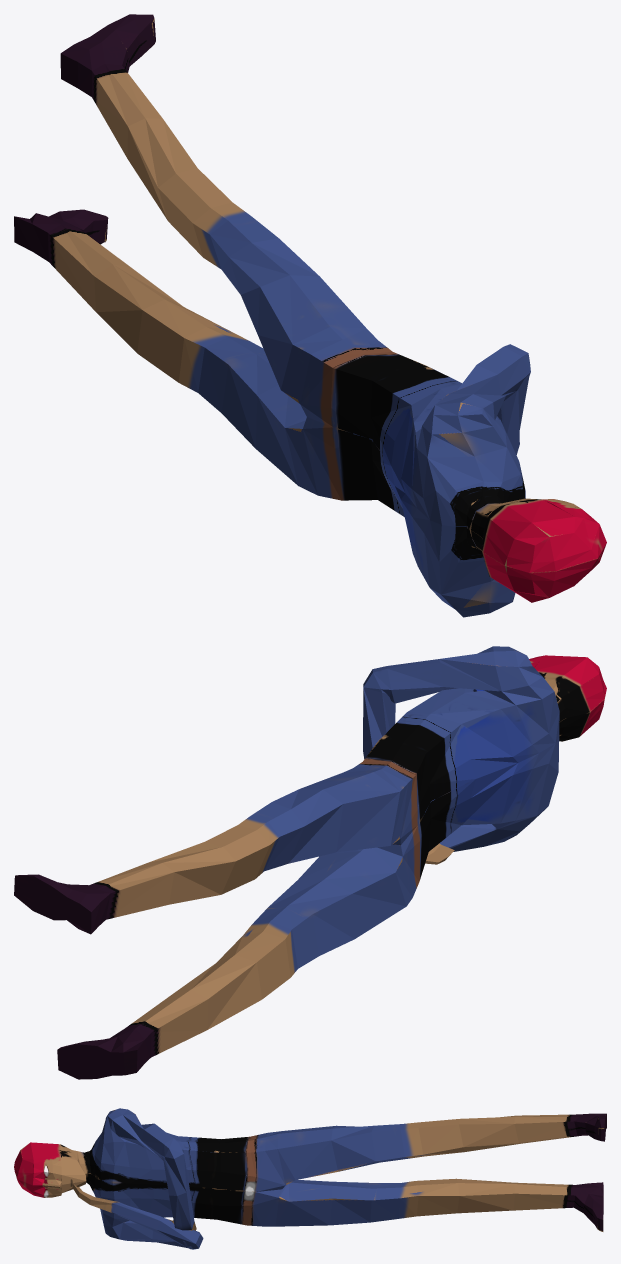
The model's file is mirrorman_000012.obj.
3 views of the same model, one above another, from view 1: azimuth 30°, elevation 25°; view 2: azimuth 150°, elevation 25°; view 3: azimuth 270°, elevation 25° (orthographic). The views are drawn at different scales.
Visible parts, largest first — view 1: mirrorman_Cube.001_Material.001; view 2: mirrorman_Cube.001_Material.001; view 3: mirrorman_Cube.001_Material.001.
Part boxes in pixels (x1,y1,x2,y2): mirrorman_Cube.001_Material.001: [14, 14, 606, 617]; mirrorman_Cube.001_Material.001: [14, 646, 606, 1079]; mirrorman_Cube.001_Material.001: [14, 1108, 606, 1249].
Bounding box in the file's own units: 0.356 × 0.4979 × 1.9.
